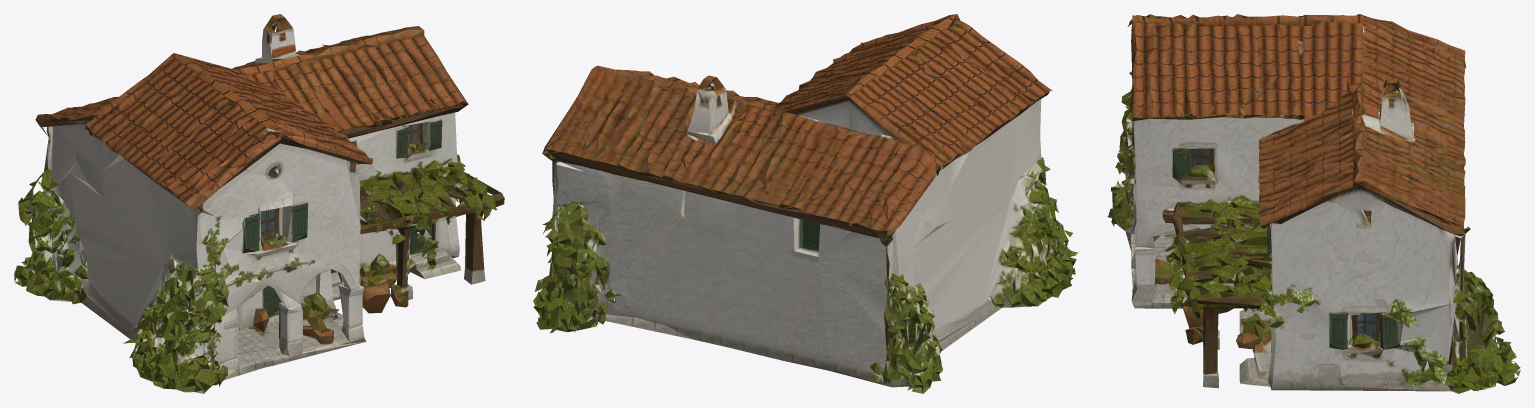
Rendered from poi_villa.glb.
3 renders of one model, left to right at view 1: azimuth 30°, elevation 25°; view 2: azimuth 150°, elevation 25°; view 3: azimuth 270°, elevation 25°, orthographic. The views are drawn at different scales.
Parts seen in each view (by area): view 1: poi_villa; view 2: poi_villa; view 3: poi_villa.
Boxes of the visible parts, x1,y1,x2,y2 form: poi_villa: (14,14,504,393); poi_villa: (533,14,1078,393); poi_villa: (1107,14,1520,393).
Bounding box in the file's own units: 18 × 10.56 × 15.88.
Materials: 1 (1 with a texture image).
